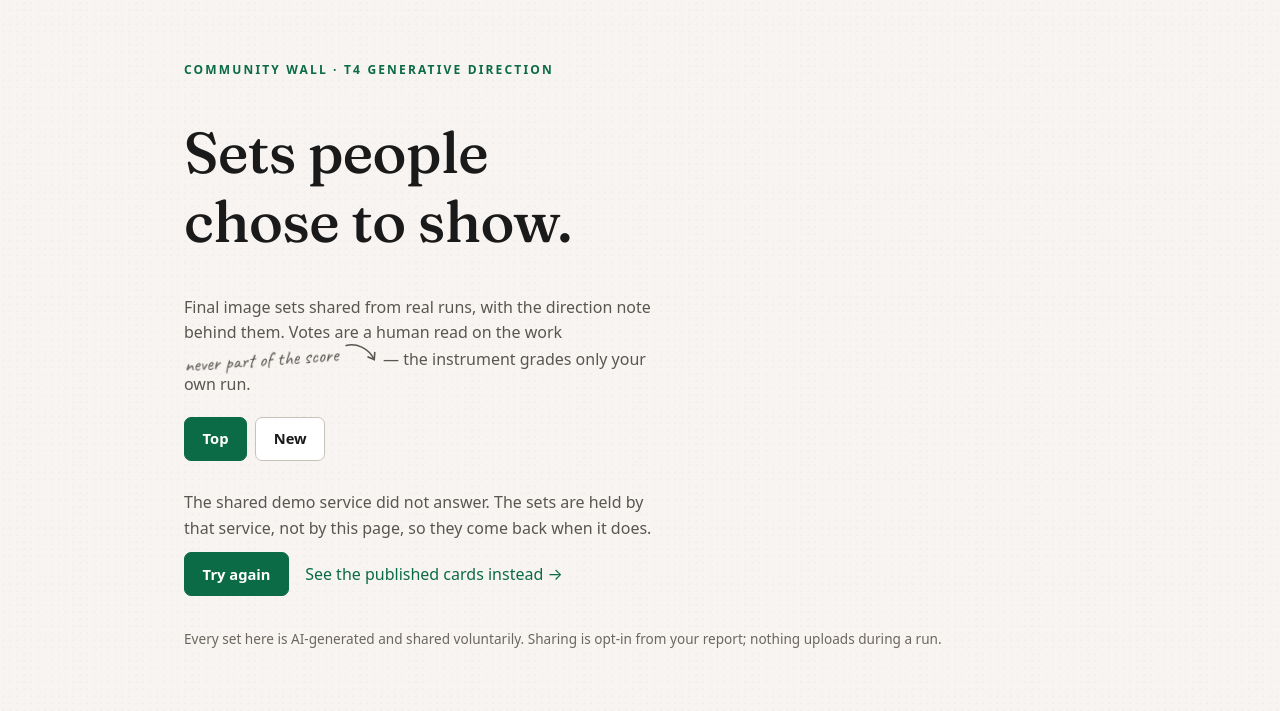
Scenario: gallery wall › offers a retry and a way onwards when the shared service is unreachable
The width and height of the screenshot is (1280, 711).
Check: the message is shown, box 184,491 -> 651,596
Check: the message shows "shared demo service did not answer", box 184,491 -> 490,513
Click the button "Try again".
click(237, 574)  # box 184,552 -> 289,596
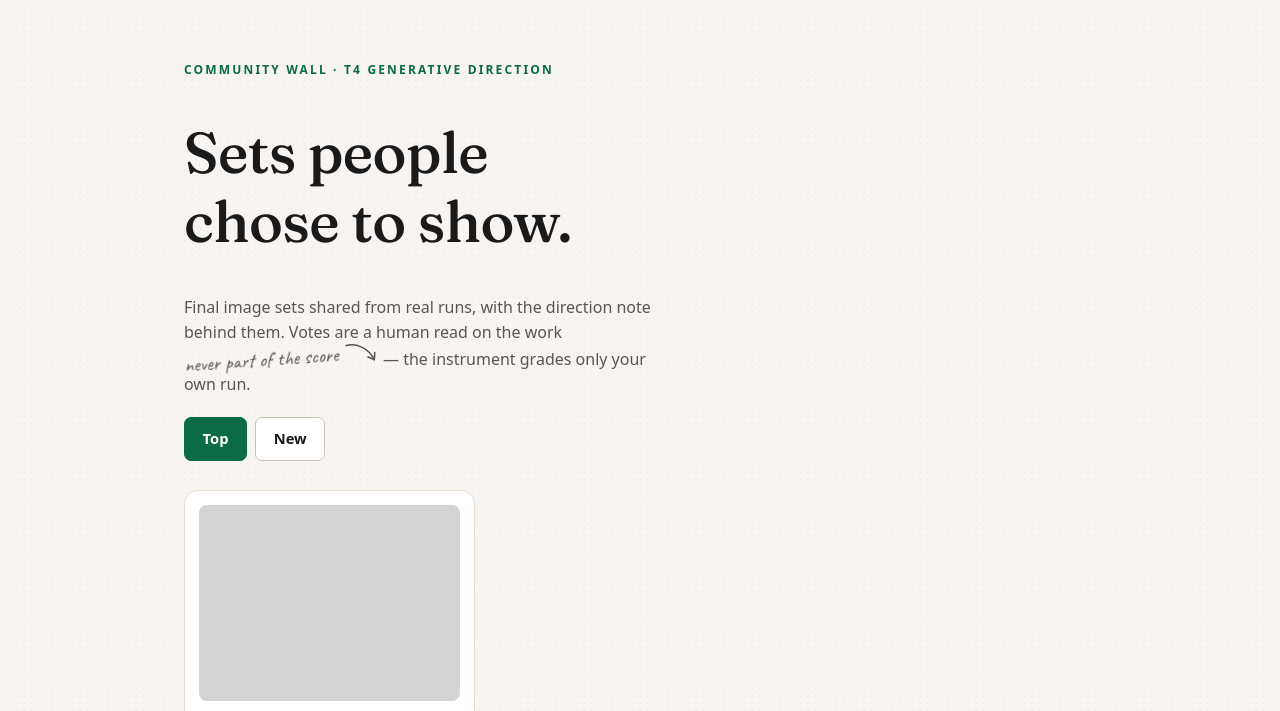
Check: the message is gone
